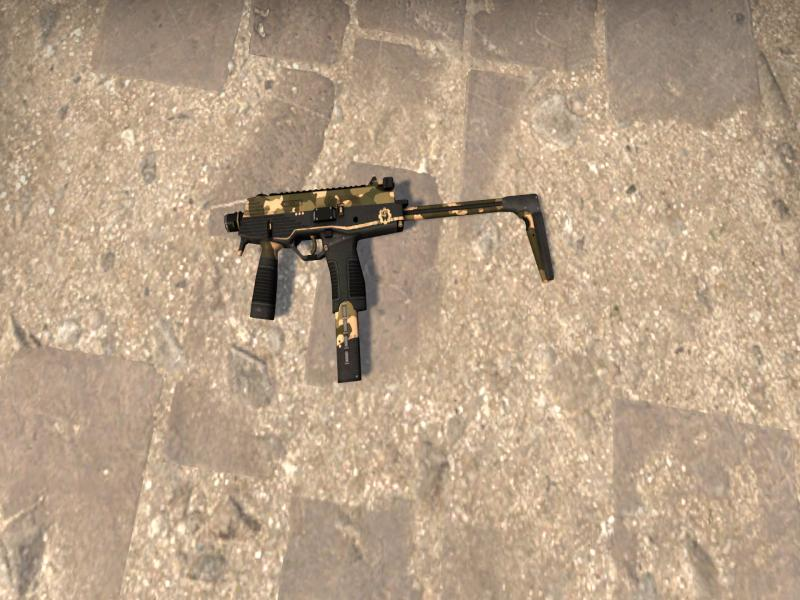MP9: (225, 176, 555, 381)
